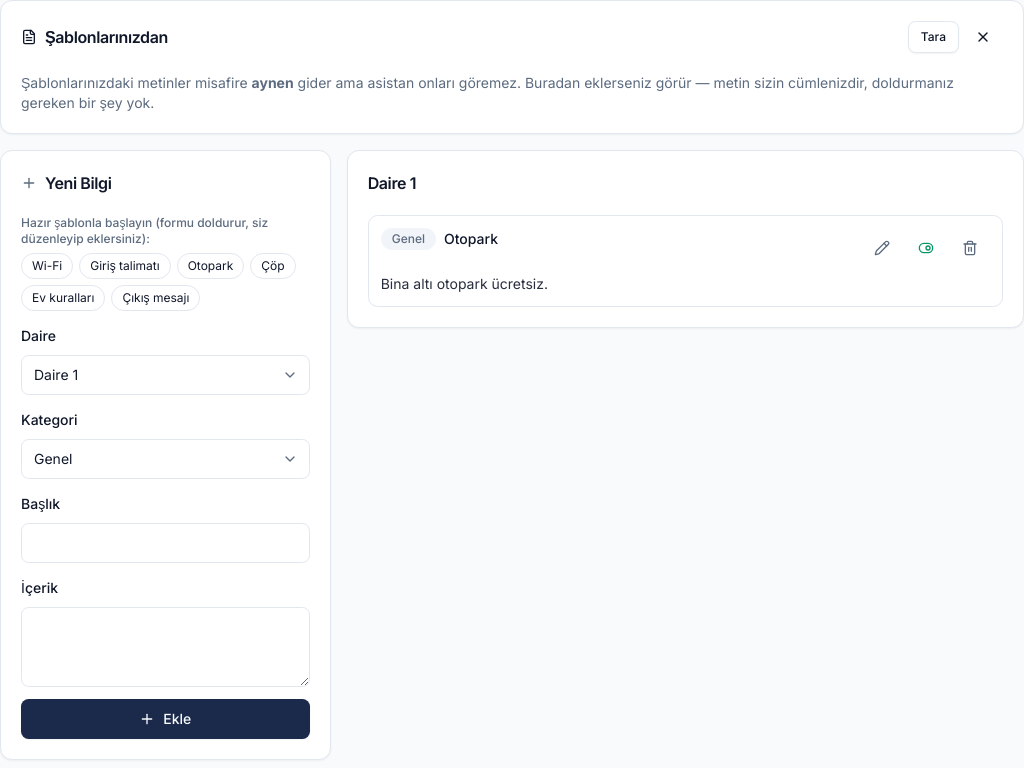
Scenario: KbManager — aktif/pasif geçişi geri bildirimi › pasifleştirme başarılıysa 'pasifleştirildi' toast'ı görünür ve PATCH isActive:false gider
Click the button named "Pasifleştir" at (926, 248), box [906,228,946,268]
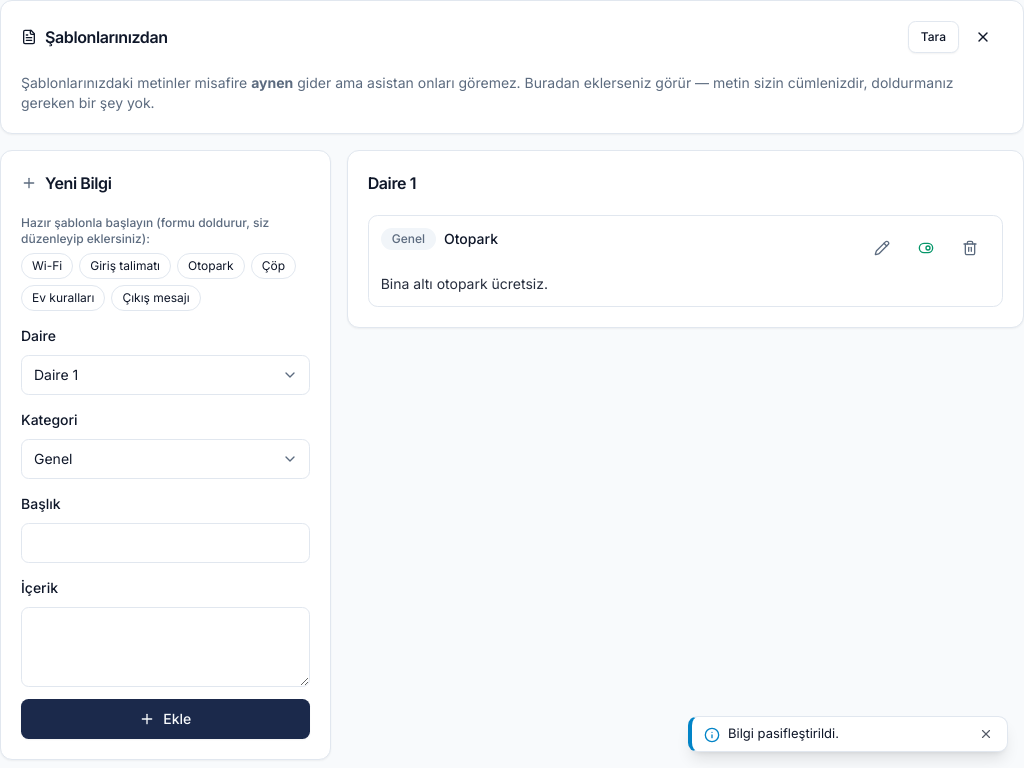
Check: the message shows "pasifleştirildi", box [728,725,839,741]
